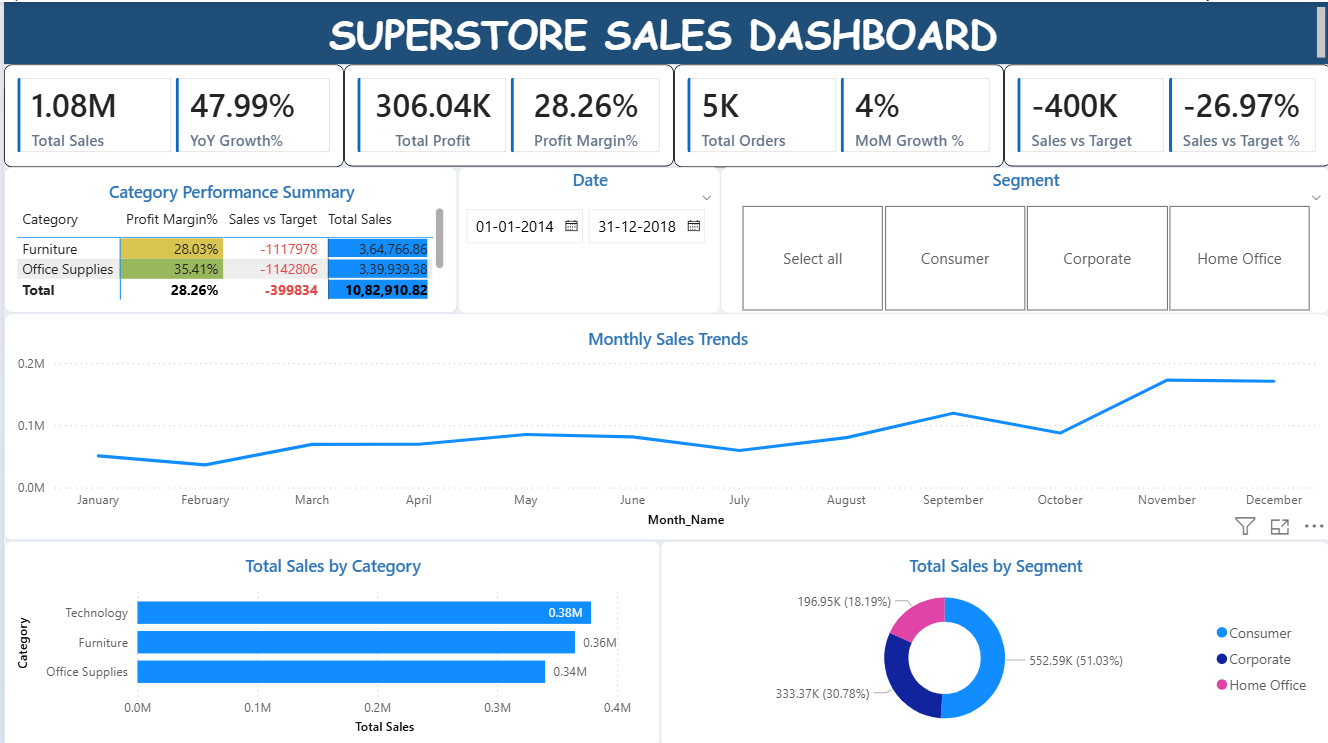

What the dashboard file says about the page in this screenshot:
{"tool":"powerbi","page":{"name":"Executive Summary","canvas":[1280,720],"ordinal":0},"visuals":[{"type":"shape","box":[0,0,1280,60.3],"z":0},{"type":"textbox","box":[0,0,1280.2,60.5],"z":1000},{"type":"cardVisual","fields":{"Data":["_Measures.Total Sales","_Measures.YoY Growth%"]},"box":[0,60.3,328.2,98.9],"z":2000},{"type":"cardVisual","fields":{"Data":["_Measures.Total Orders","_Measures.MoM Growth %"]},"box":[646.7,60.3,318.5,98.9],"z":3000},{"type":"cardVisual","fields":{"Data":["_Measures.Sales vs Target","_Measures.Sales vs Target %"]},"box":[964.7,60.4,315.6,98.8],"z":4000},{"type":"cardVisual","fields":{"Data":["_Measures.Total Profit","_Measures.Profit Margin%"]},"box":[328,60.4,318.4,98.8],"z":5000},{"type":"pivotTable","title":"Category Performance Summary","fields":{"Values":["_Measures.Profit Margin%","_Measures.Sales vs Target","_Measures.Total Sales"],"Rows":["Products.Category"]},"box":[0,159.3,437.9,141.2],"z":6000},{"type":"lineChart","title":"Monthly Sales Trends","fields":{"Y":["_Measures.Total Sales"],"Category":["Date_Table.Date Hierarchy.Year","Date_Table.Date Hierarchy.Quarter","Date_Table.Date Hierarchy.Month_Name","Date_Table.Date Hierarchy.Date"]},"box":[0,300.4,1280,219.6],"z":7000},{"type":"barChart","fields":{"Y":["_Measures.Total Sales"],"Category":["Products.Category Hierarchy.Category","Products.Category Hierarchy.Sub_Category"]},"box":[0,520,633.4,200.3],"z":8000},{"type":"donutChart","fields":{"Y":["_Measures.Total Sales"],"Category":["Customers.Segment"]},"box":[634,520.1,646.3,200.3],"z":9000},{"type":"slicer","title":"Date","fields":{"Values":["Date_Table.Date"]},"box":[437.7,159.2,253.9,141.3],"z":10000},{"type":"slicer","title":"Segment","fields":{"Values":["Customers.Segment"]},"box":[691.6,159.2,588.7,141.3],"z":11000}]}

Visuals, with their boxes in screenshot pixels (x1, y1, x2, y2), scaled from the page's 1280x720 canvas onto the 1328x743 screenshot:
shape: Rect(0, 0, 1327, 62)
textbox: Rect(0, 0, 1327, 62)
cardVisual - _Measures.Total Sales x _Measures.YoY Growth%: Rect(0, 62, 341, 164)
cardVisual - _Measures.Total Orders x _Measures.MoM Growth %: Rect(671, 62, 1001, 164)
cardVisual - _Measures.Sales vs Target x _Measures.Sales vs Target %: Rect(1001, 62, 1327, 164)
cardVisual - _Measures.Total Profit x _Measures.Profit Margin%: Rect(340, 62, 671, 164)
"Category Performance Summary" pivotTable: Rect(0, 164, 454, 310)
"Monthly Sales Trends" lineChart: Rect(0, 310, 1327, 537)
barChart - _Measures.Total Sales x Products.Category Hierarchy.Category: Rect(0, 537, 657, 742)
donutChart - _Measures.Total Sales x Customers.Segment: Rect(658, 537, 1327, 742)
"Date" slicer: Rect(454, 164, 718, 310)
"Segment" slicer: Rect(718, 164, 1327, 310)
